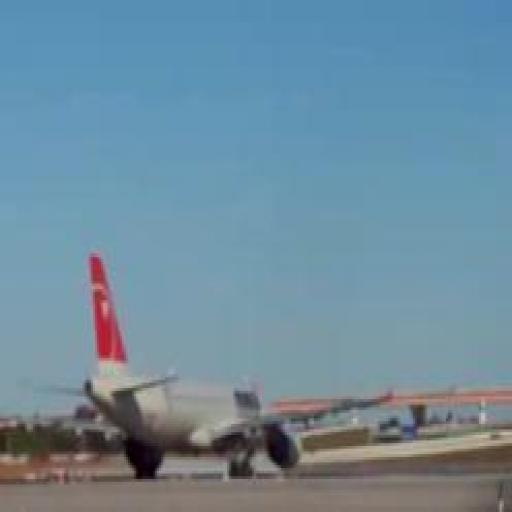aircraft: (41, 253, 512, 479)
